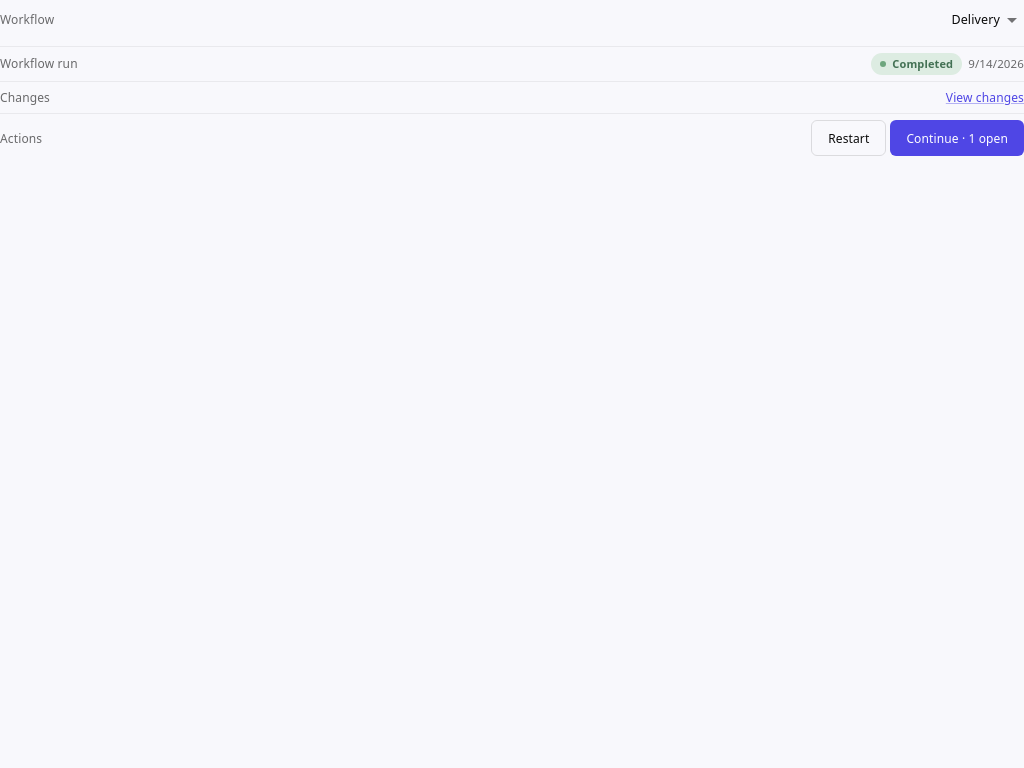
Test: ItemWorkflowPanel › the Restart confirm points at Continue only when Continue is offered
What coordinates should you click on to do the following:
click the button "Restart"
I would click on:
 (849, 138)
Its box is 811,120 -> 886,156.
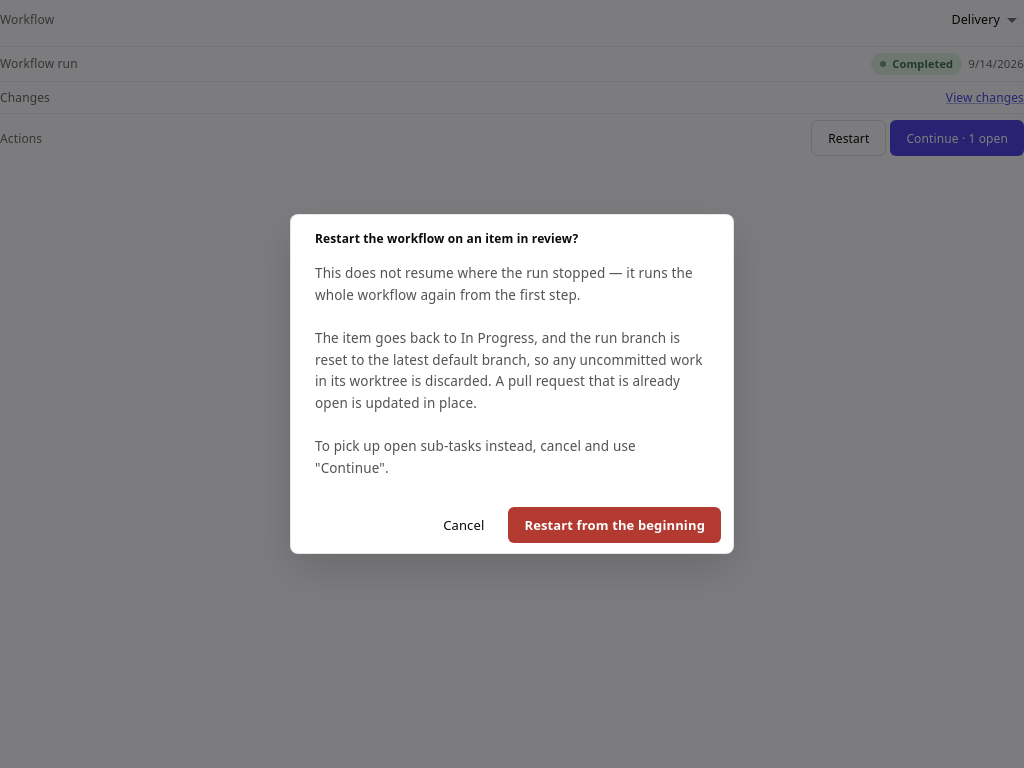
Check: the text "use \"Continue\"" is shown, box 315,264 -> 702,477
